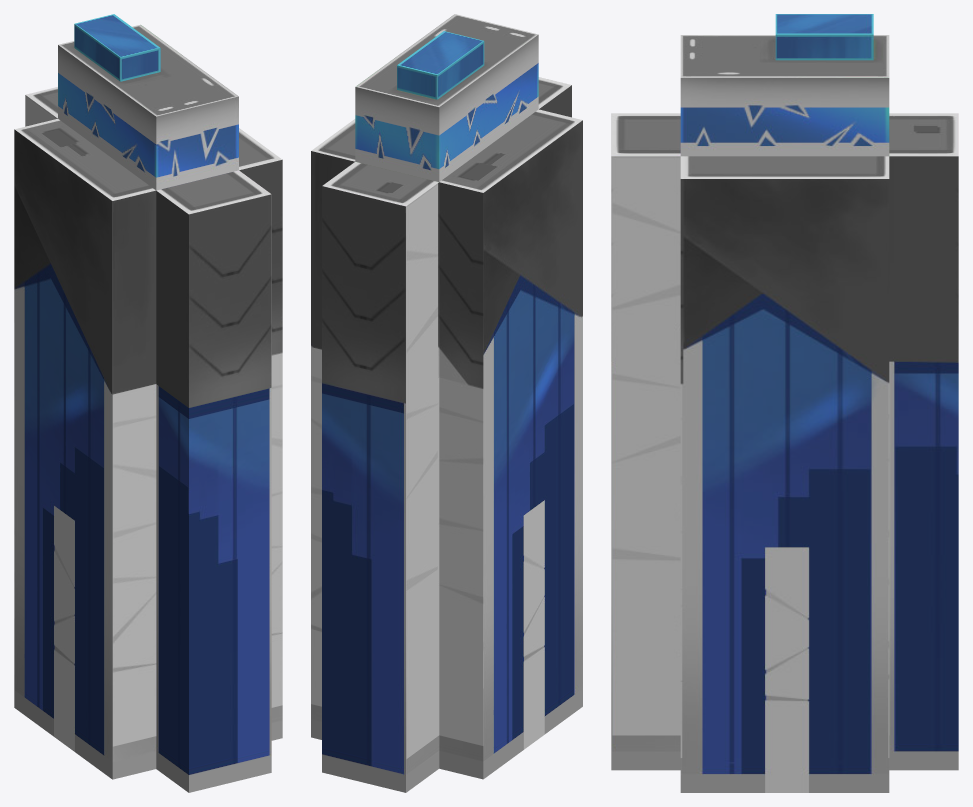
Rendered from House_17.FBX.
3 views of the same model, side by side, from view 1: azimuth 30°, elevation 25°; view 2: azimuth 150°, elevation 25°; view 3: azimuth 270°, elevation 25° (orthographic). The views are drawn at different scales.
Visible parts, largest first — view 1: House_17; view 2: House_17; view 3: House_17.
Boxes of the visible parts, left/top/right/bottom form: House_17: left=14, top=14, right=282, bottom=792; House_17: left=311, top=14, right=582, bottom=792; House_17: left=611, top=14, right=958, bottom=792.
Size of the model in its own units: 30 by 114 by 50.
Materials: 1 (1 with a texture image).
